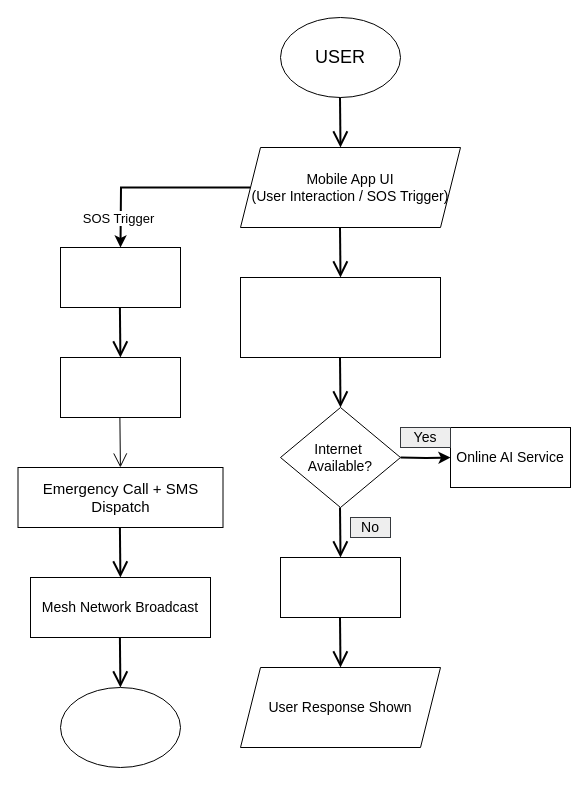
The diagram is 588 pixels wide and 785 high, and some of its shapes have lost their labels. The shapes that lost their labels are listed below. From the top down, each one's centre as x and y in pixels, then its label:
point (120, 277): SOS Handler
point (340, 317): Connectivity Manager
point (120, 387): GPS Module (Fetch Location)
point (340, 587): On-device AI Model
point (120, 727): Nearby Devices (Receive Alert)
